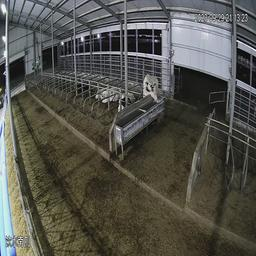cow: (95, 78, 120, 106), (141, 68, 160, 104), (70, 72, 95, 99), (116, 85, 135, 109)
